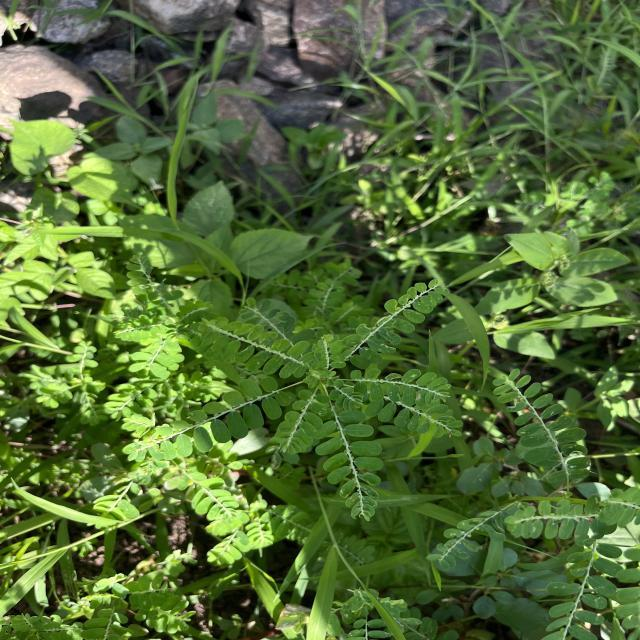Phyllanthus niruri: (124, 377, 290, 462), (488, 366, 592, 486), (336, 278, 449, 368), (310, 402, 386, 520), (196, 318, 316, 379), (343, 367, 456, 408), (274, 388, 326, 454)
